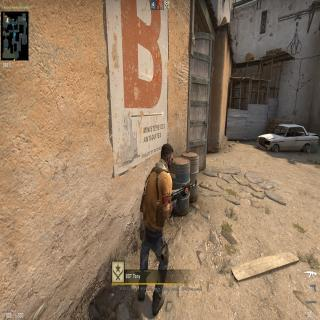T-Head: (160, 141, 174, 174)
